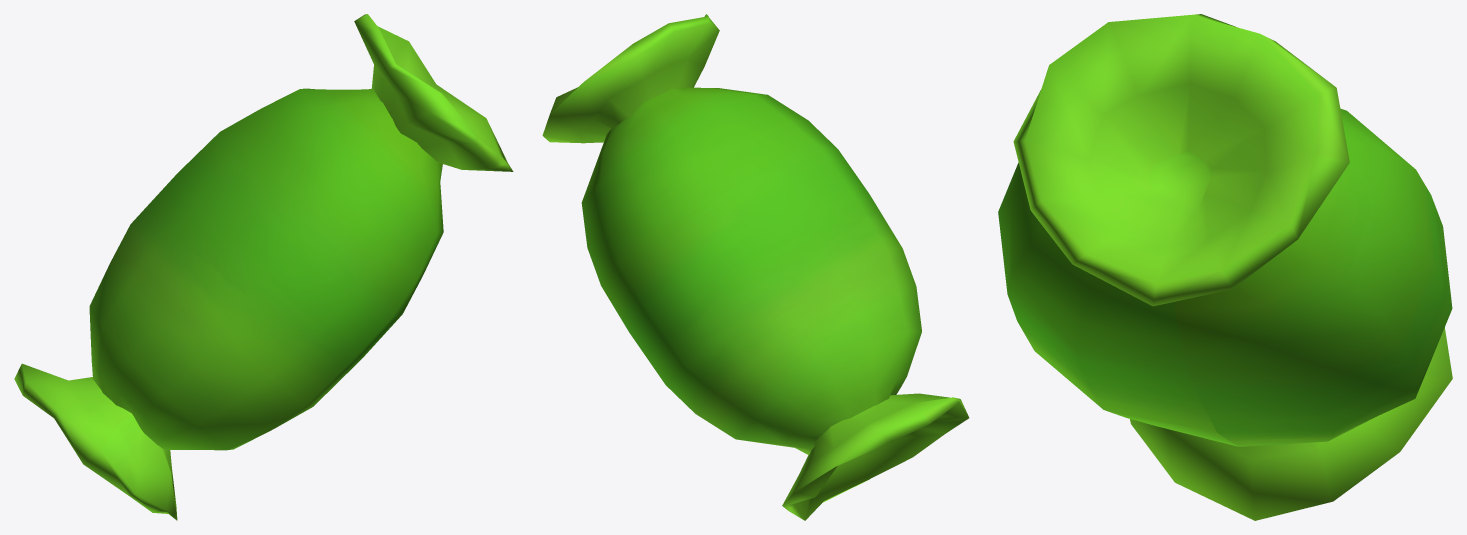
3 views of the same model, side by side, from view 1: azimuth 30°, elevation 25°; view 2: azimuth 150°, elevation 25°; view 3: azimuth 270°, elevation 25° (orthographic). The views are drawn at different scales.
Visible parts, largest first — view 1: Candy; view 2: Candy; view 3: Candy.
Boxes of the visible parts, x1=… form: Candy: x1=14, y1=14, x2=513, y2=520; Candy: x1=542, y1=14, x2=969, y2=520; Candy: x1=998, y1=14, x2=1452, y2=520.
Size of the model in its own units: 1.37 by 1.35 by 0.8888.
